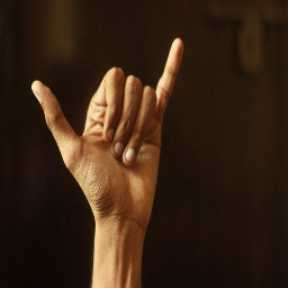J: (31, 30, 185, 218)
